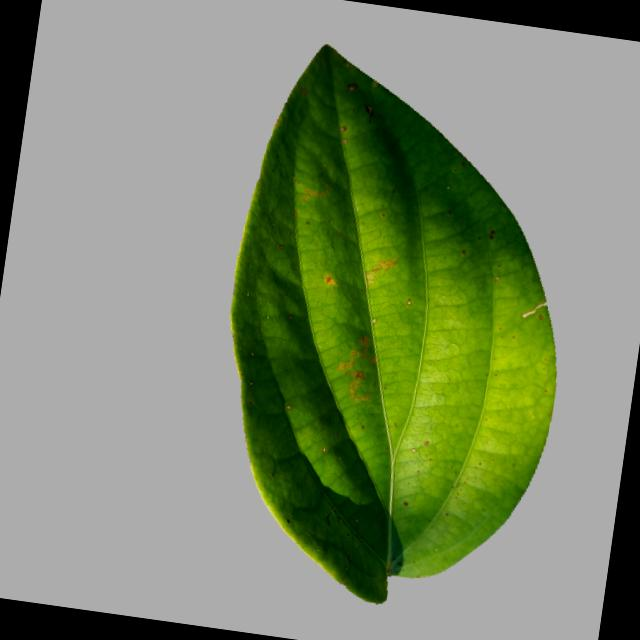healthy: (191, 31, 604, 624)
